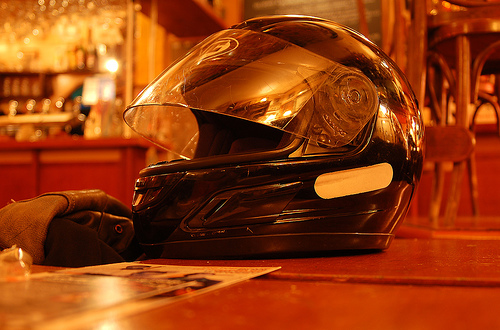helmet: (159, 5, 434, 237)
